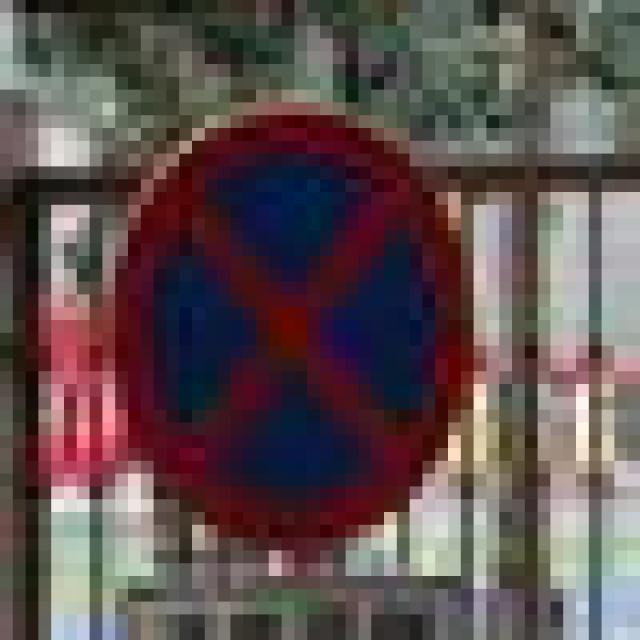no stopping or standing: (99, 106, 518, 564)
